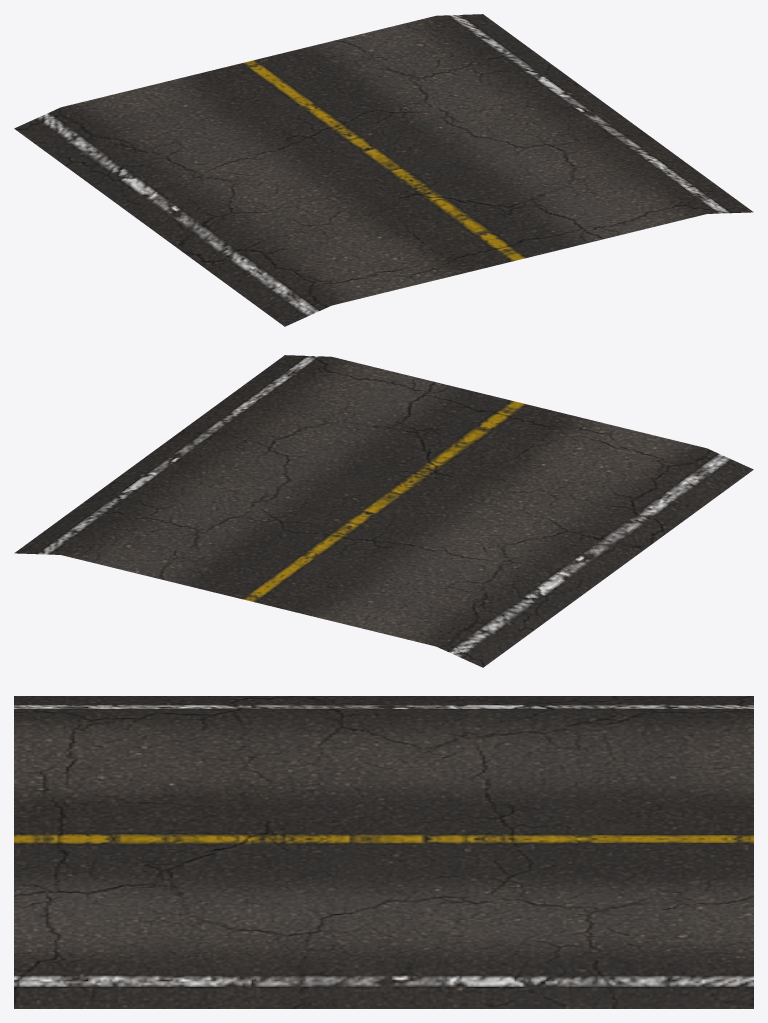
File: Road_01.glb
3 views of the same model, one above another, from view 1: azimuth 30°, elevation 25°; view 2: azimuth 150°, elevation 25°; view 3: azimuth 270°, elevation 25° (orthographic). The views are drawn at different scales.
Visible parts, largest first — view 1: Road_01.001; view 2: Road_01.001; view 3: Road_01.001.
Boxes of the visible parts, x1,y1,x2,y2 form: Road_01.001: (14,14,753,326); Road_01.001: (14,355,753,667); Road_01.001: (14,696,753,1008).
Bounding box in the file's own units: 10 × 0.2 × 10.
Materials: 1 (1 with a texture image).
